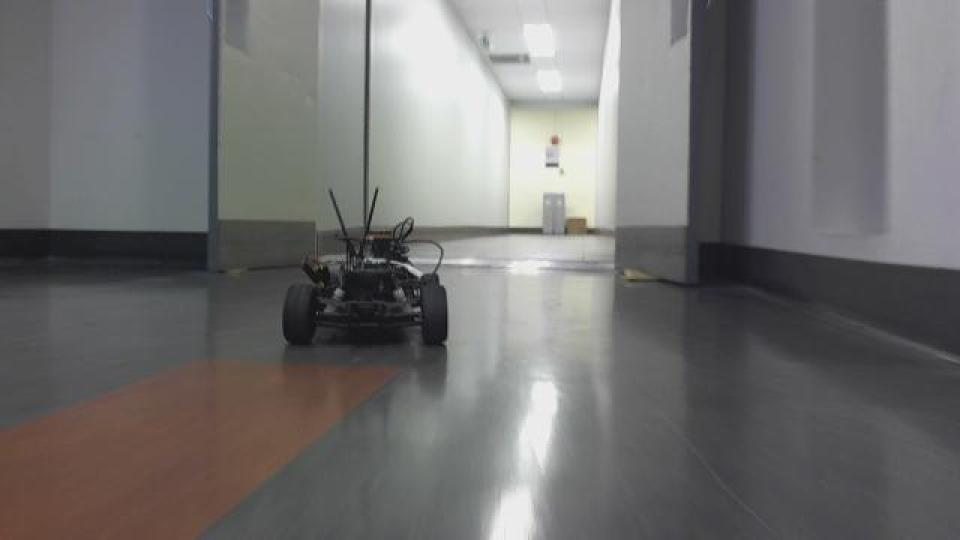car: (278, 184, 452, 350)
